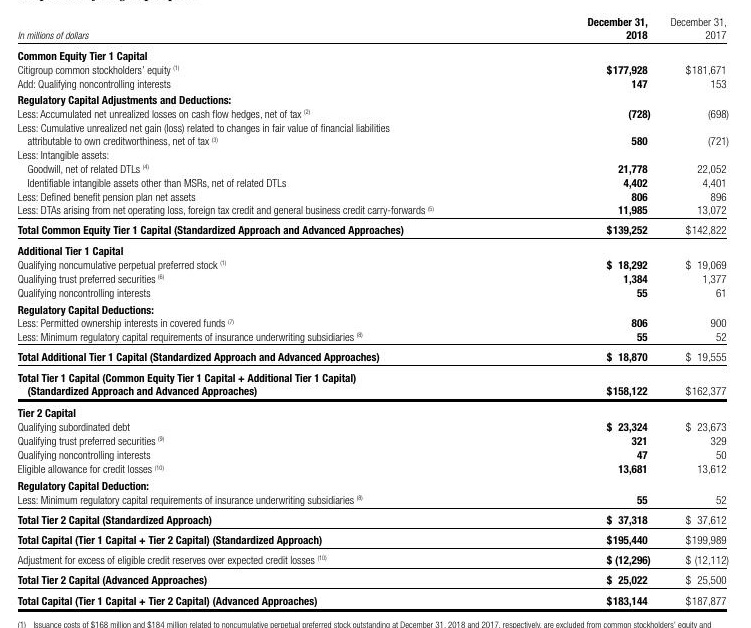table: (0, 0, 751, 628)
